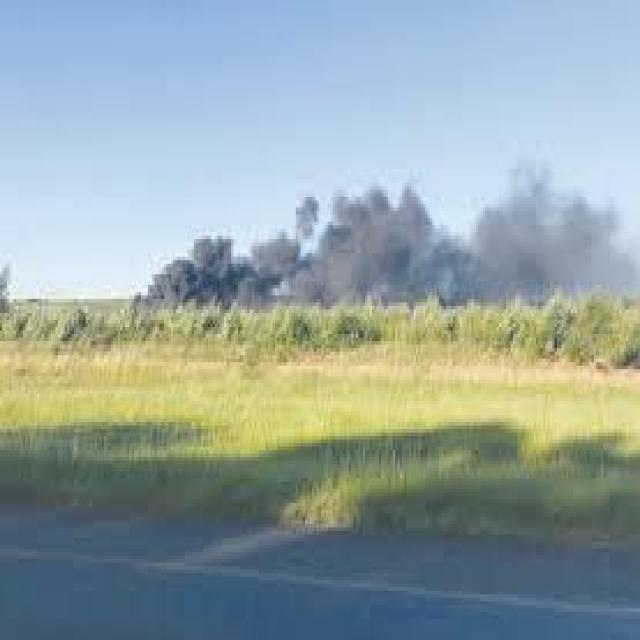Smoke: (128, 140, 640, 304)
